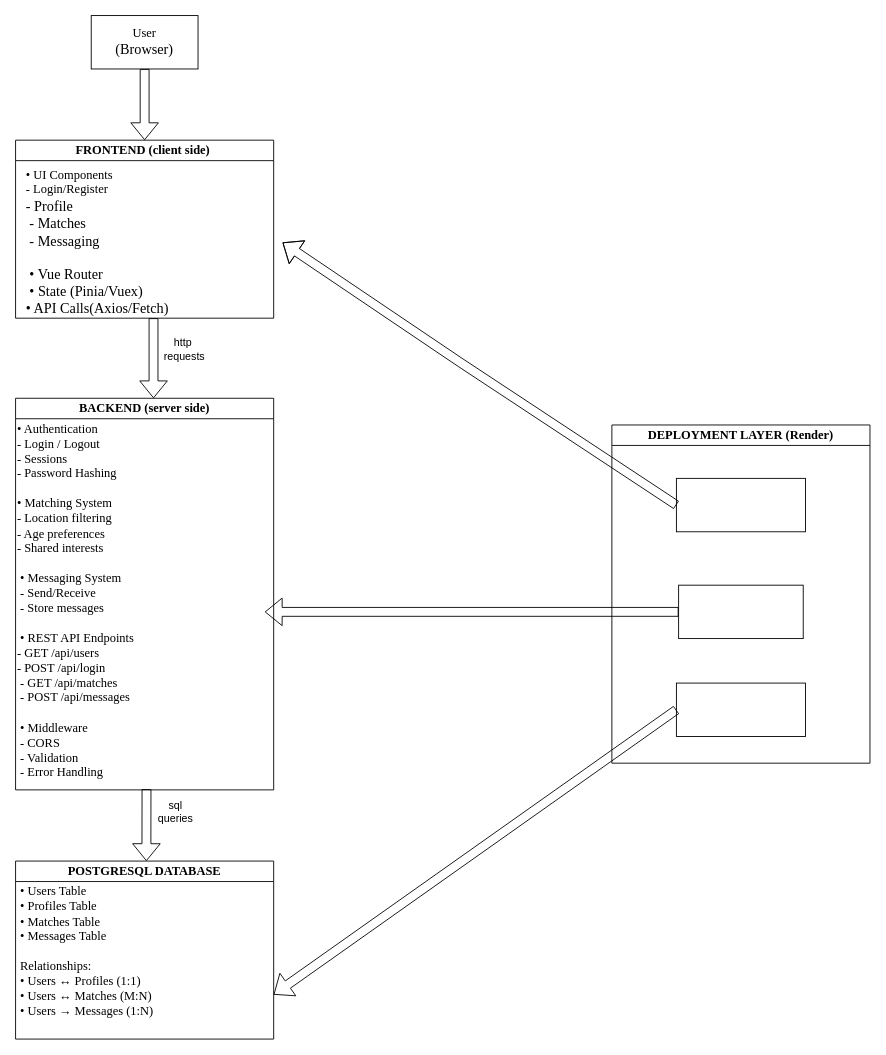
Image size: 886x1055. Some labels were removed from this diagram. Each missing label, with the centre of its shape:
Render PostgreSQL DB (Managed Database): pixel 740 709
Render Static Site (Vue Frontend Hosting): pixel 740 504
Render Web Service (Flask API Server): pixel 740 611
